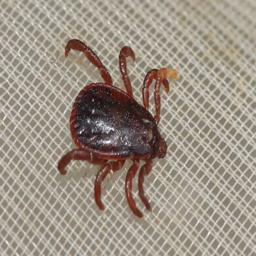Rhipicephalus sanguineus: (57, 38, 171, 219)
